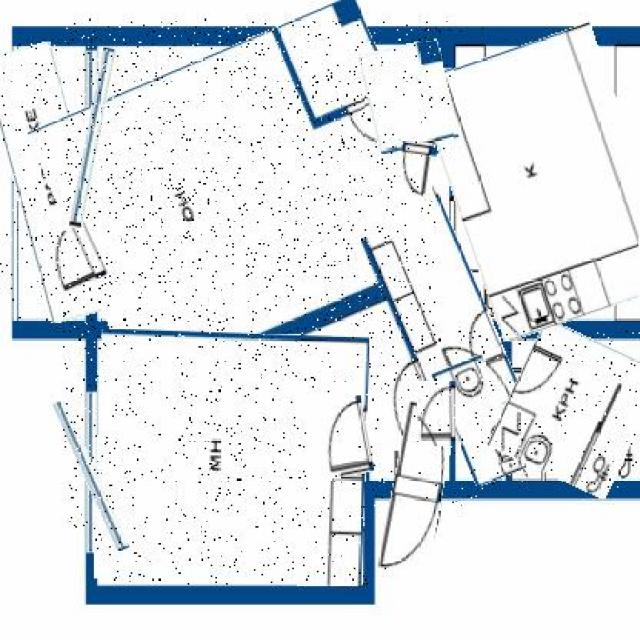door: (385, 398, 452, 580), (309, 397, 371, 480), (42, 226, 103, 289), (417, 380, 455, 446), (397, 142, 435, 203)
window: (68, 397, 114, 552), (77, 48, 108, 229)
zone: (63, 19, 488, 506), (95, 332, 368, 585), (435, 32, 640, 331), (0, 43, 102, 322), (498, 328, 640, 488), (441, 357, 517, 485), (364, 43, 454, 151)
